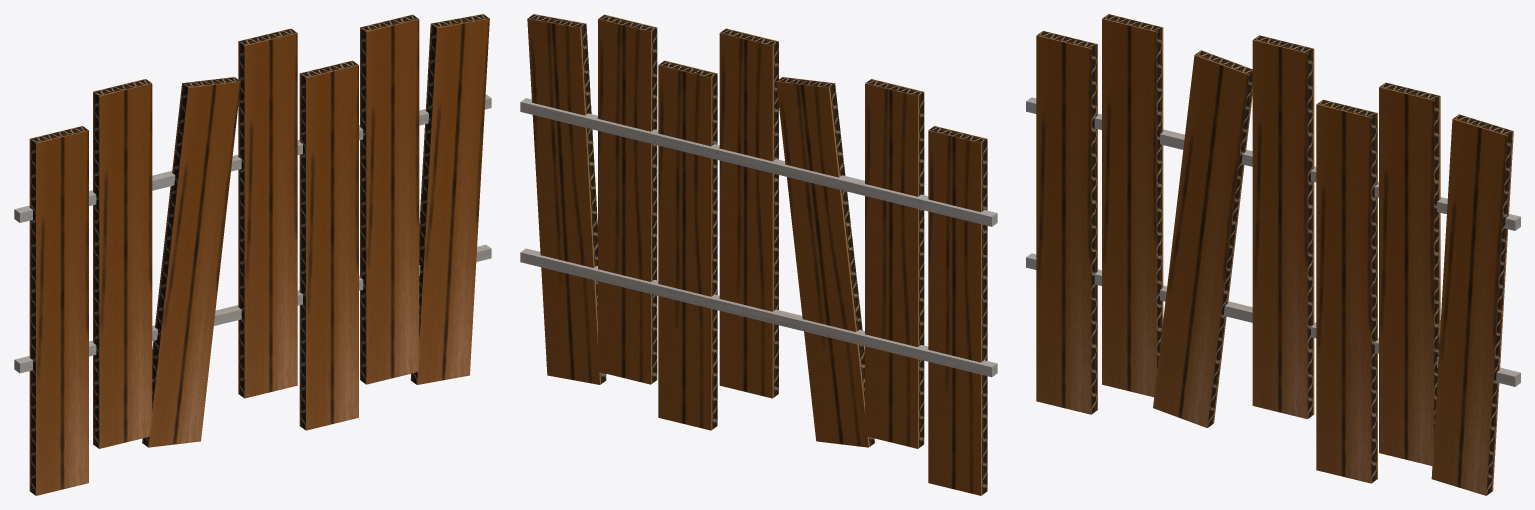
File: Fence.fbx
3 renders of one model, left to right at view 1: azimuth 30°, elevation 25°; view 2: azimuth 150°, elevation 25°; view 3: azimuth 330°, elevation 25°, orthographic. The views are drawn at different scales.
Visible parts, largest first — view 1: pCube29, pCube30, pCube25, pCube18, pCube28, pCube27, pCube26, pCube24, pCube23; view 2: pCube25, pCube30, pCube18, pCube29, pCube28, pCube27, pCube26, pCube24, pCube23; view 3: pCube28, pCube30, pCube25, pCube26, pCube27, pCube18, pCube29, pCube24, pCube23.
Part boxes in pixels (x1,y1,x2,y2): pCube29: (360, 14, 419, 384); pCube30: (299, 60, 358, 430); pCube25: (29, 126, 88, 495); pCube18: (93, 79, 152, 448); pCube28: (238, 28, 297, 398); pCube27: (142, 77, 240, 447); pCube26: (410, 14, 489, 384); pCube24: (14, 244, 491, 373); pCube23: (14, 94, 491, 222); pCube25: (928, 126, 987, 495); pCube30: (658, 60, 717, 430); pCube18: (865, 79, 924, 448); pCube29: (598, 14, 657, 384); pCube28: (719, 28, 778, 398); pCube27: (776, 77, 874, 447); pCube26: (527, 14, 606, 384); pCube24: (520, 248, 997, 377); pCube23: (520, 98, 997, 226); pCube28: (1252, 35, 1314, 419); pCube30: (1316, 99, 1377, 483); pCube25: (1036, 31, 1097, 414); pCube26: (1431, 114, 1513, 495); pCube27: (1153, 50, 1252, 427); pCube18: (1102, 14, 1163, 397); pCube29: (1379, 82, 1440, 466); pCube24: (1026, 253, 1520, 386); pCube23: (1026, 97, 1520, 230).
Bounding box in the file's own units: 2 × 1.62 × 0.0628.
